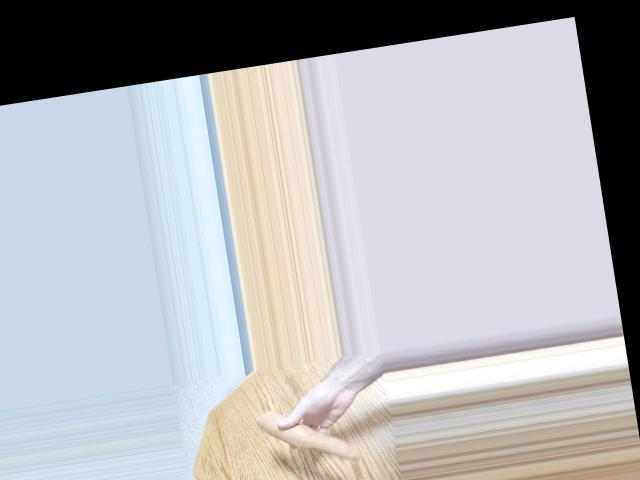sweet_potato: (245, 402, 358, 469)
